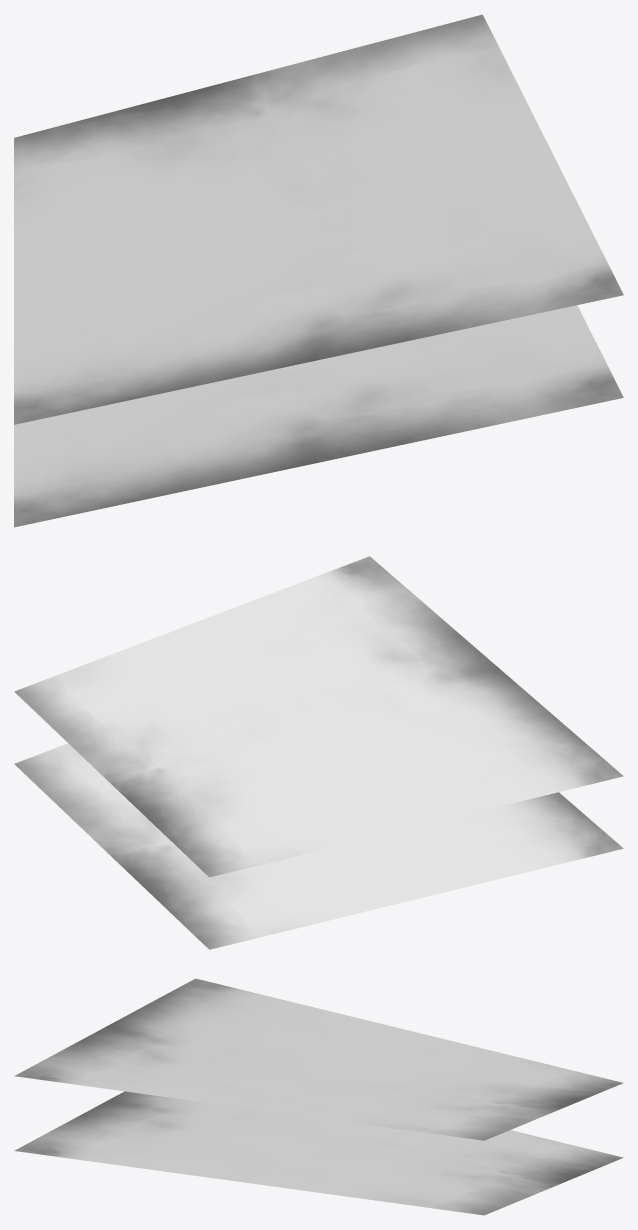
The model's file is CourseWinter_CurveFloor_8_10.fbx.
The picture shows the model from 3 angles, top to bottom: view 1: azimuth 30°, elevation 25°; view 2: azimuth 150°, elevation 25°; view 3: azimuth 270°, elevation 25°; orthographic projection. The views are drawn at different scales.
Parts seen in each view (by area): view 1: polySurface720; view 2: polySurface720; view 3: polySurface720.
Part boxes in pixels (x1=…): polySurface720: x1=14, y1=14, x2=623, y2=527; polySurface720: x1=14, y1=556, x2=623, y2=949; polySurface720: x1=14, y1=978, x2=623, y2=1215.
Bounding box in the file's own units: 6.8 × 2 × 7.4.
1 material, 1 textured.
